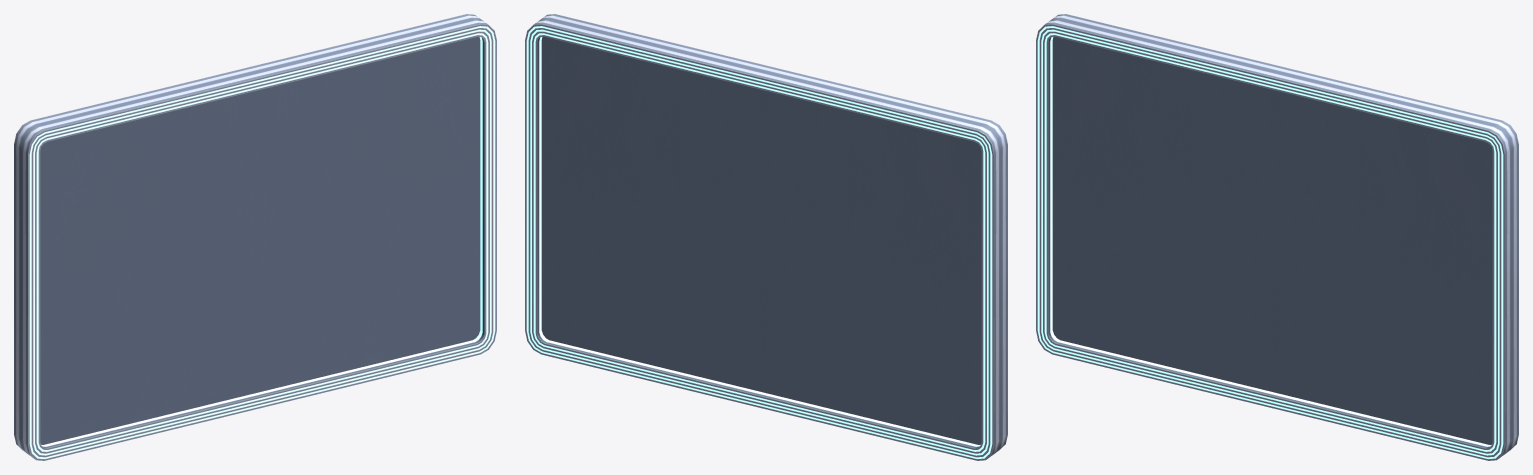
File: obj_governance05.gltf
The picture shows the model from 3 angles, left to right: view 1: azimuth 30°, elevation 25°; view 2: azimuth 150°, elevation 25°; view 3: azimuth 330°, elevation 25°; orthographic projection.
Visible parts, largest first — view 1: obj_governance05; view 2: obj_governance05; view 3: obj_governance05.
Part boxes in pixels (box(x1,y1,x2,y2)): obj_governance05: box(14, 14, 496, 460); obj_governance05: box(525, 14, 1007, 460); obj_governance05: box(1036, 14, 1518, 460).
Size of what is drawn, in the model's own units: 3.22 by 2.16 by 0.1666.
2 materials, 1 textured.
